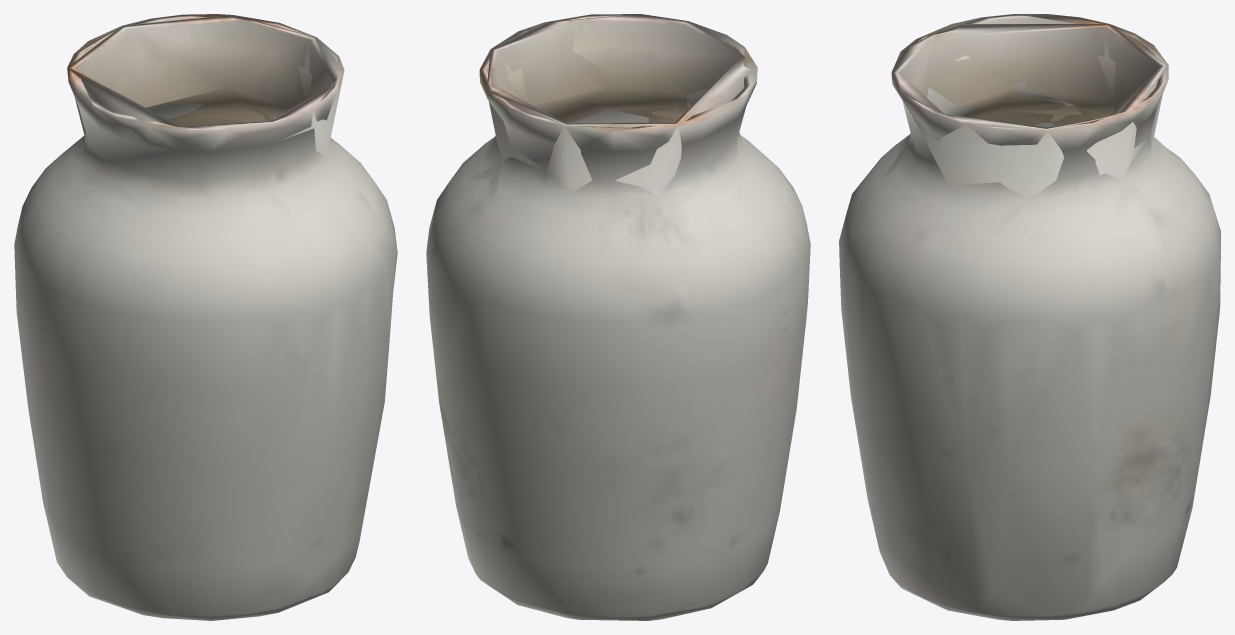
The model's file is ceramic_vase_02.glb.
3 views of the same model, side by side, from view 1: azimuth 30°, elevation 25°; view 2: azimuth 150°, elevation 25°; view 3: azimuth 270°, elevation 25° (orthographic).
Parts seen in each view (by area): view 1: ceramic_vase_02, ceramic_vase_02_lo; view 2: ceramic_vase_02, ceramic_vase_02_lo; view 3: ceramic_vase_02, ceramic_vase_02_lo.
Boxes of the visible parts, left/top/right/bottom form: ceramic_vase_02: left=14, top=14, right=397, bottom=620; ceramic_vase_02_lo: left=38, top=15, right=351, bottom=620; ceramic_vase_02: left=426, top=14, right=810, bottom=620; ceramic_vase_02_lo: left=465, top=14, right=802, bottom=611; ceramic_vase_02: left=839, top=14, right=1220, bottom=620; ceramic_vase_02_lo: left=839, top=24, right=1173, bottom=581.
Bounding box in the file's own units: 0.2168 × 0.3077 × 0.2168.
1 material, 1 textured.
